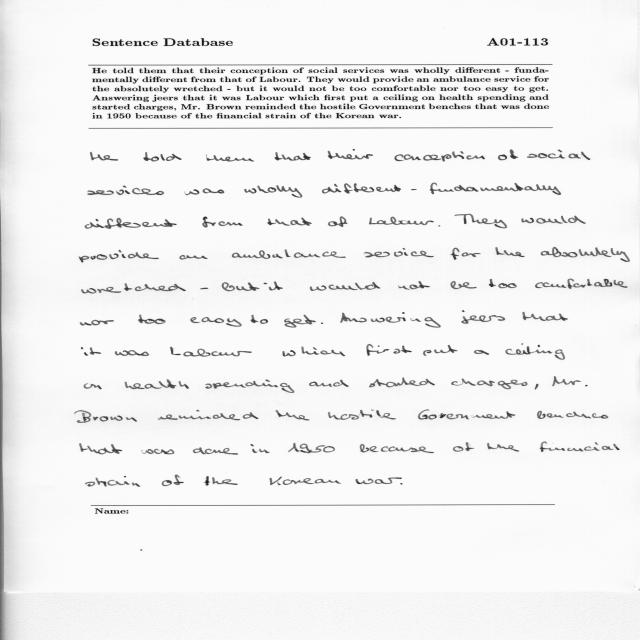word: (340, 312, 441, 328), (430, 183, 561, 195), (541, 247, 630, 262), (206, 379, 295, 393), (81, 283, 186, 294), (232, 249, 346, 259), (79, 250, 159, 263), (85, 218, 177, 229), (158, 410, 259, 420), (394, 151, 485, 162), (418, 410, 515, 420), (505, 344, 565, 360), (535, 279, 628, 289), (322, 183, 401, 194), (452, 379, 528, 390), (170, 347, 252, 357), (75, 410, 137, 423), (540, 442, 620, 452), (88, 186, 164, 196), (245, 185, 303, 198), (455, 214, 507, 228), (328, 410, 396, 420), (360, 444, 434, 453), (369, 378, 435, 388), (125, 379, 189, 389), (270, 477, 341, 486), (527, 150, 590, 160), (364, 248, 434, 257), (310, 282, 380, 291), (283, 347, 346, 357), (462, 310, 506, 324), (86, 476, 141, 487), (537, 411, 608, 419), (366, 344, 412, 356), (369, 217, 434, 225), (521, 216, 586, 224), (190, 317, 242, 327), (328, 149, 373, 160), (288, 443, 335, 453), (80, 443, 122, 454), (202, 217, 243, 228), (284, 315, 316, 328), (267, 217, 312, 226), (523, 312, 568, 321), (450, 247, 481, 260), (423, 345, 458, 356), (144, 152, 182, 162), (552, 377, 588, 387), (193, 447, 238, 455), (276, 410, 310, 420), (204, 476, 238, 486), (206, 155, 254, 162), (222, 283, 259, 292), (275, 152, 311, 161), (356, 478, 402, 485), (496, 247, 525, 257), (398, 281, 430, 290), (185, 189, 225, 196), (138, 315, 166, 325), (309, 380, 349, 387), (487, 443, 519, 451), (91, 152, 119, 161), (489, 279, 517, 288), (162, 475, 184, 486), (498, 150, 518, 161), (453, 442, 474, 452), (328, 216, 347, 227), (451, 281, 477, 289), (80, 320, 114, 326), (115, 350, 149, 356), (82, 347, 102, 356), (250, 444, 270, 453), (264, 282, 283, 291), (141, 449, 174, 454), (251, 315, 268, 324), (179, 255, 208, 260), (84, 384, 102, 390), (474, 350, 489, 355), (535, 384, 539, 390), (200, 288, 208, 290), (411, 189, 417, 190), (400, 483, 403, 484), (438, 226, 440, 227), (321, 323, 323, 324)
